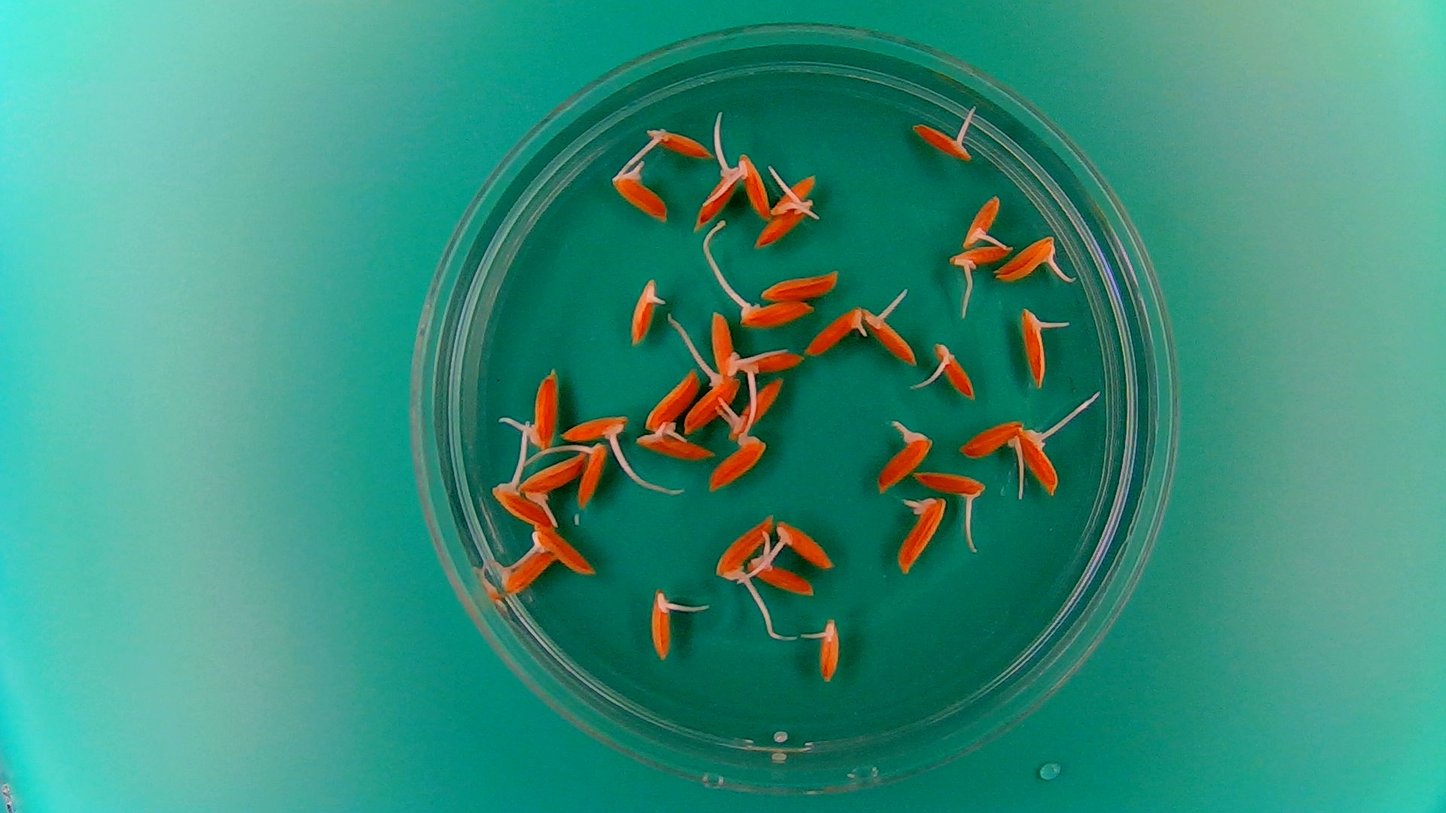no: (756, 269, 842, 303)
yes: (899, 492, 950, 574), (714, 511, 770, 583), (528, 521, 598, 577), (725, 373, 786, 437), (708, 431, 770, 493), (802, 302, 869, 358), (874, 427, 929, 495), (644, 366, 699, 434), (694, 154, 743, 230), (687, 368, 740, 436), (518, 367, 560, 452), (507, 453, 590, 496), (609, 166, 670, 224), (993, 238, 1063, 287), (862, 305, 918, 365), (490, 478, 557, 526), (910, 117, 978, 162), (639, 422, 715, 462), (728, 294, 814, 329), (778, 517, 837, 568), (1018, 306, 1053, 391), (1015, 428, 1057, 498), (755, 200, 817, 247), (627, 274, 667, 346), (559, 413, 631, 452), (734, 150, 773, 219), (747, 559, 817, 597), (912, 468, 985, 504), (709, 306, 745, 378), (732, 344, 805, 379), (958, 420, 1022, 459), (959, 191, 1002, 248), (574, 442, 609, 510), (500, 551, 554, 595), (937, 341, 978, 397), (648, 121, 713, 156), (767, 174, 818, 218), (813, 612, 843, 685), (648, 585, 676, 658), (950, 240, 1012, 269)
